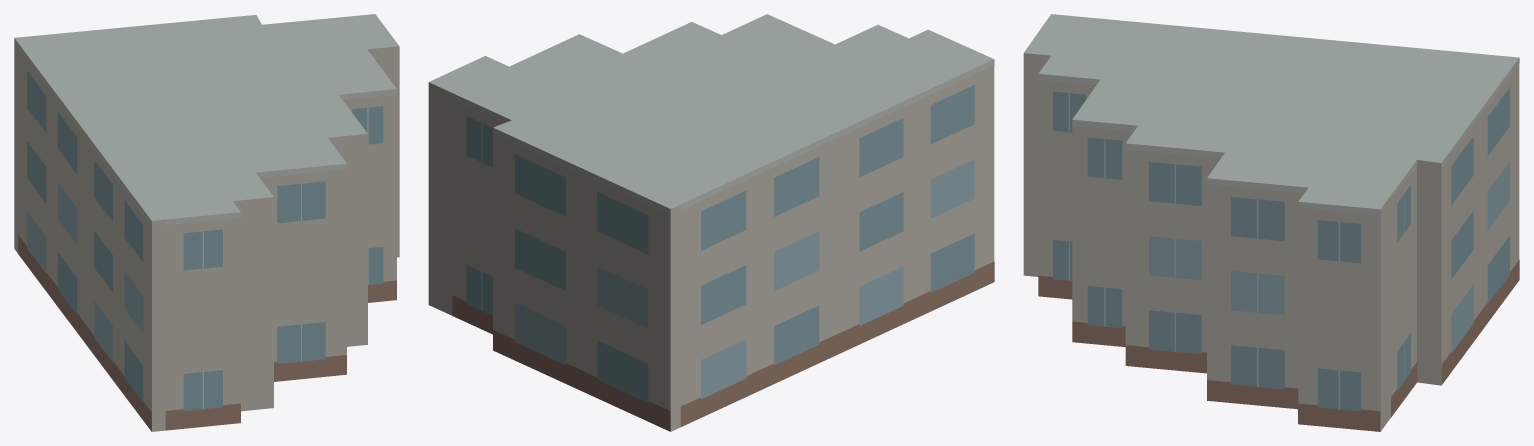
The model's file is survey-upis-32983083.glb.
The picture shows the model from 3 angles, left to right: view 1: azimuth 30°, elevation 25°; view 2: azimuth 150°, elevation 25°; view 3: azimuth 270°, elevation 25°; orthographic projection. The views are drawn at different scales.
Visible parts, largest first — view 1: survey-upis-32983083.tmp; view 2: survey-upis-32983083.tmp; view 3: survey-upis-32983083.tmp.
Boxes of the visible parts, <box> form: survey-upis-32983083.tmp: <box>14,14,399,431</box>; survey-upis-32983083.tmp: <box>428,14,994,431</box>; survey-upis-32983083.tmp: <box>1023,14,1519,431</box>.
Bounding box in the file's own units: 17.14 × 9.1 × 18.39.
